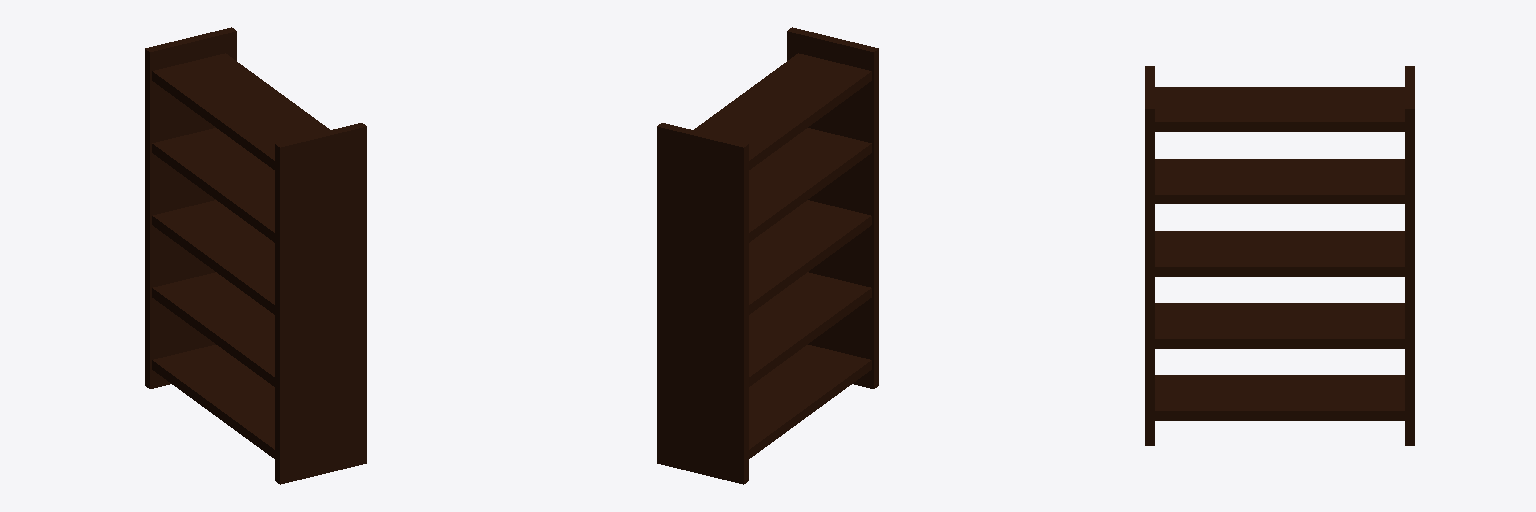
Rendered from shelf.obj.
3 renders of one model, left to right at view 1: azimuth 30°, elevation 25°; view 2: azimuth 150°, elevation 25°; view 3: azimuth 270°, elevation 25°, orthographic.
Visible parts, largest first — view 1: Cube.004; view 2: Cube.004; view 3: Cube.004.
Part boxes in pixels (left/top/right/bottom): Cube.004: left=145, top=27, right=366, bottom=484; Cube.004: left=657, top=27, right=878, bottom=484; Cube.004: left=1145, top=66, right=1414, bottom=445.
Bounding box in the file's own units: 1.9 × 7 × 5.1.